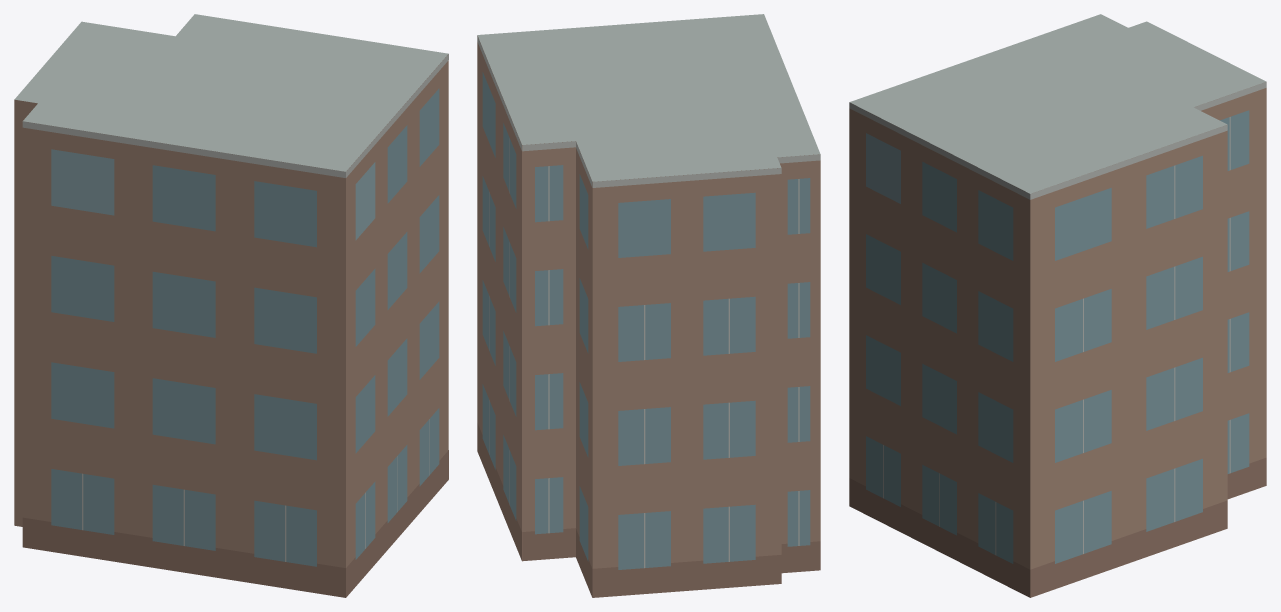
The model's file is survey-upis-32951660.glb.
3 views of the same model, side by side, from view 1: azimuth 30°, elevation 25°; view 2: azimuth 150°, elevation 25°; view 3: azimuth 270°, elevation 25° (orthographic). The views are drawn at different scales.
Visible parts, largest first — view 1: survey-upis-32951660.tmp; view 2: survey-upis-32951660.tmp; view 3: survey-upis-32951660.tmp.
Part boxes in pixels (<box>): survey-upis-32951660.tmp: <box>14,14,448,597</box>; survey-upis-32951660.tmp: <box>477,14,820,597</box>; survey-upis-32951660.tmp: <box>849,14,1266,597</box>.
Bounding box in the file's own units: 15.57 × 16.3 × 15.27.
